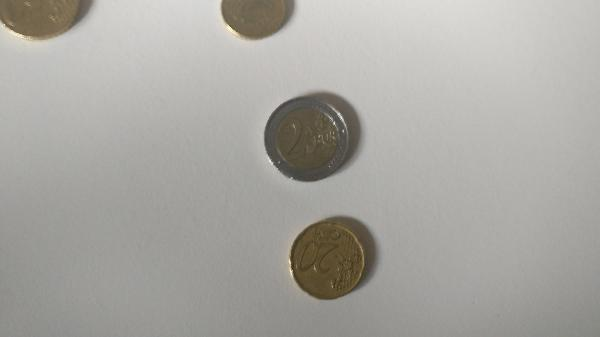Fifty Cent: (1, 1, 80, 42)
Ten Cent: (217, 1, 294, 43)
Twenty Cent: (290, 219, 367, 298)
Two Euro: (264, 96, 350, 186)
